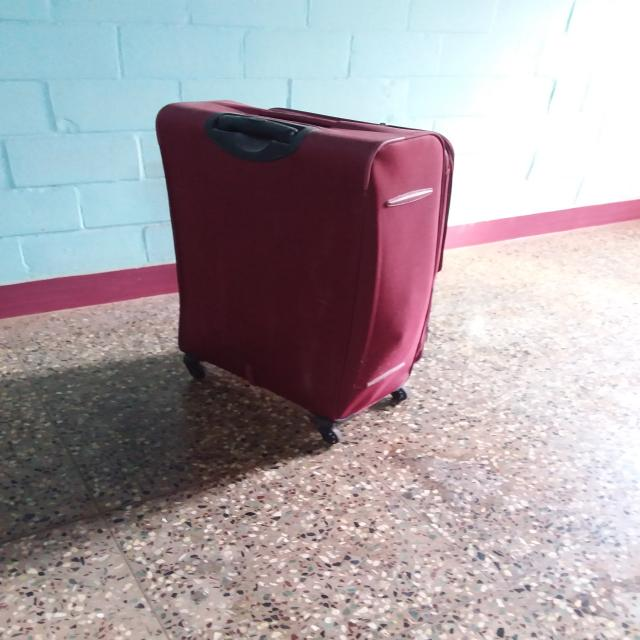suitcaserotation: (151, 98, 457, 448)
